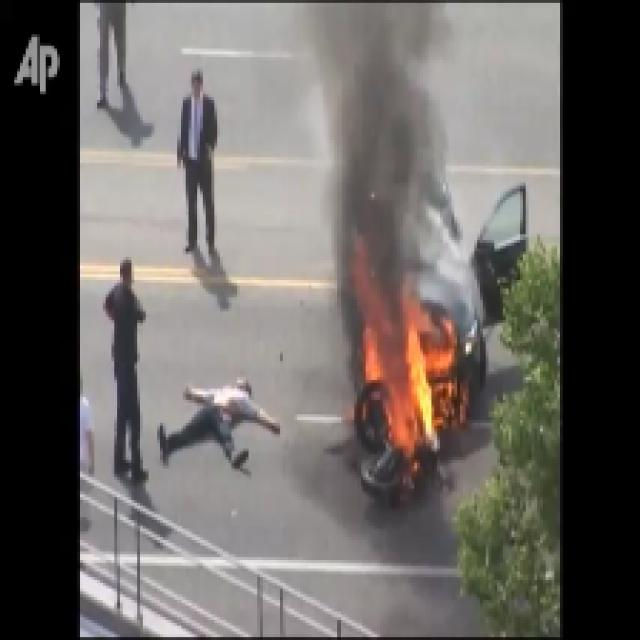fire: (365, 331, 436, 446)
smoke: (334, 21, 416, 310)
